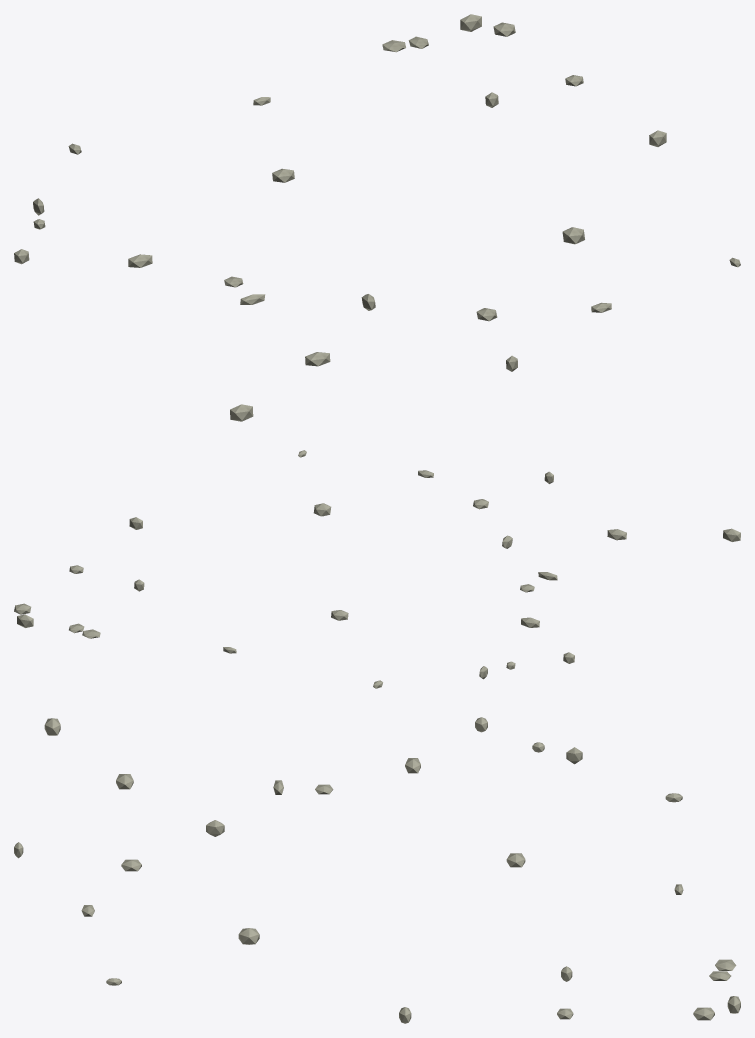
Rendered from Scattered_Stones.glb.
3 renders of one model, top to bottom at view 1: azimuth 30°, elevation 25°; view 2: azimuth 150°, elevation 25°; view 3: azimuth 270°, elevation 25°, orthographic. The views are drawn at different scales.
Visible parts, largest first — view 1: Scattered_Stones; view 2: Scattered_Stones; view 3: Scattered_Stones.
Boxes of the visible parts, left/top/right/bottom form: Scattered_Stones: left=14, top=14, right=740, bottom=421; Scattered_Stones: left=14, top=450, right=740, bottom=688; Scattered_Stones: left=14, top=717, right=740, bottom=1023.
Size of the model in its own units: 42.81 by 1.19 by 44.11.
1 material, 1 textured.
